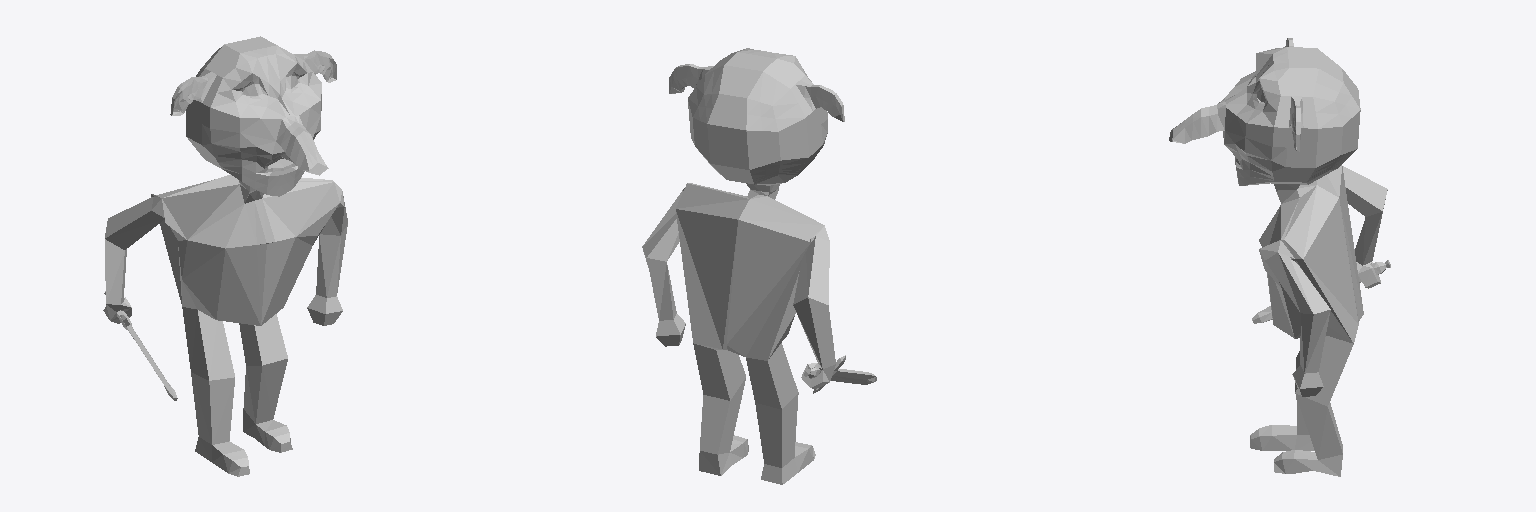
Rendered from andrzejAttack_000074.obj.
3 renders of one model, left to right at view 1: azimuth 30°, elevation 25°; view 2: azimuth 150°, elevation 25°; view 3: azimuth 270°, elevation 25°, orthographic.
Parts seen in each view (by area): view 1: Cube; view 2: Cube; view 3: Cube.
Boxes of the visible parts, x1=… form: Cube: x1=103, y1=36, x2=347, y2=476; Cube: x1=642, y1=48, x2=876, y2=484; Cube: x1=1169, y1=38, x2=1390, y2=476.
Bounding box in the file's own units: 5.19 × 9.23 × 4.58.